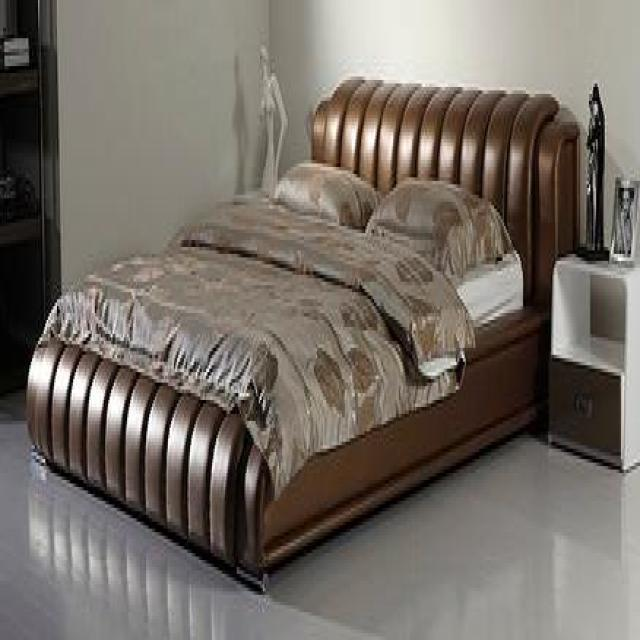bed: (24, 64, 581, 592)
